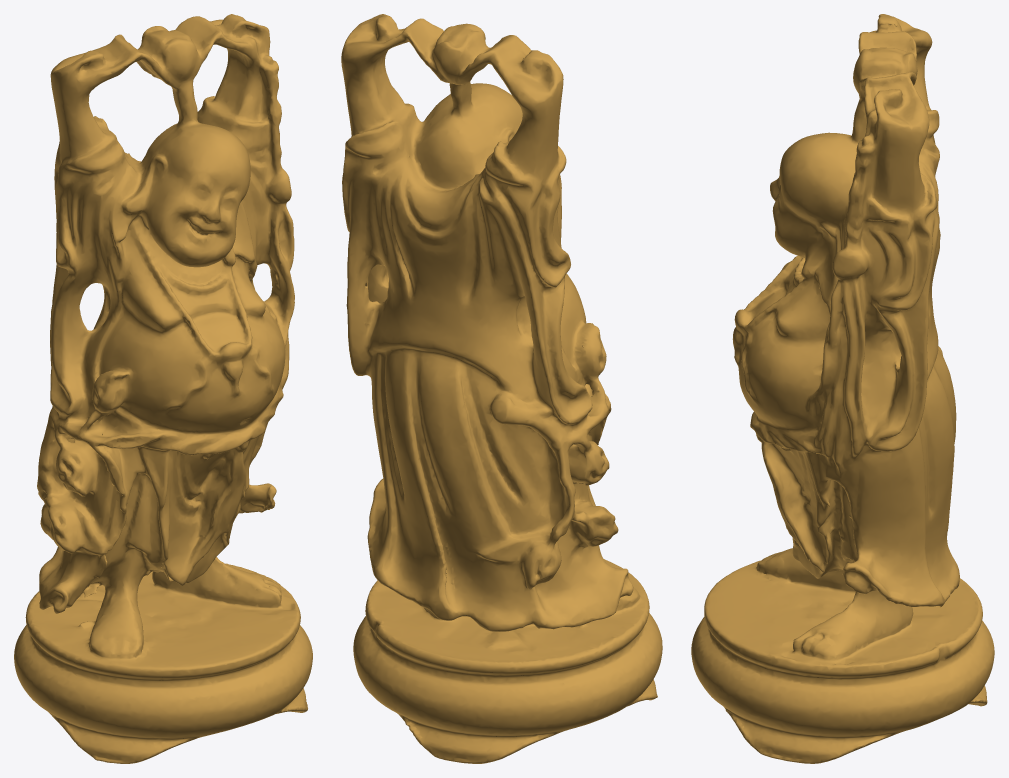
Rendered from buddha-detail.glb.
3 renders of one model, left to right at view 1: azimuth 30°, elevation 25°; view 2: azimuth 150°, elevation 25°; view 3: azimuth 270°, elevation 25°, orthographic. The views are drawn at different scales.
Visible parts, largest first — view 1: HappyBuddha_Stanford; view 2: HappyBuddha_Stanford; view 3: HappyBuddha_Stanford.
Part boxes in pixels (x1,y1,x2,y2): HappyBuddha_Stanford: (14, 14, 312, 763); HappyBuddha_Stanford: (341, 14, 662, 763); HappyBuddha_Stanford: (691, 14, 994, 763).
Bounding box in the file's own units: 0.4107 × 1 × 0.411.
